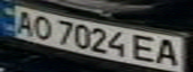0: (69, 21, 93, 51)
2: (87, 26, 109, 55)
4: (106, 29, 130, 60)
7: (51, 18, 75, 46)
A: (151, 37, 184, 67), (9, 8, 39, 36)
E: (130, 33, 163, 63)
O: (27, 12, 57, 41)
